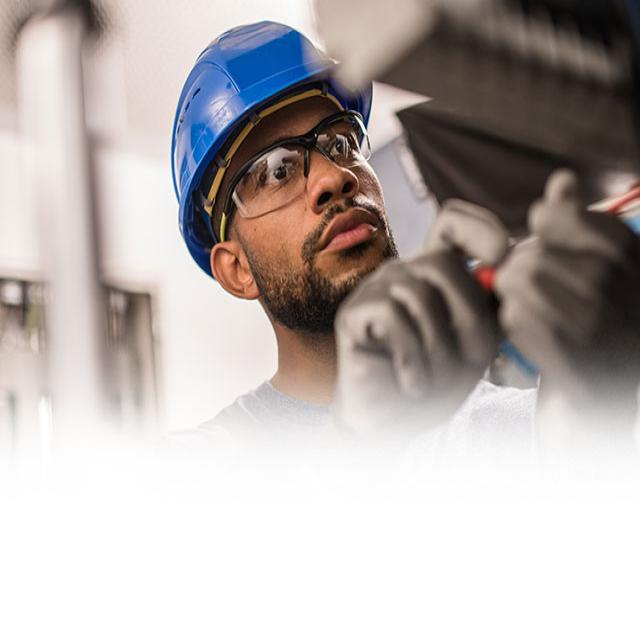goggles: (206, 108, 374, 246)
helmet: (168, 14, 373, 284)
